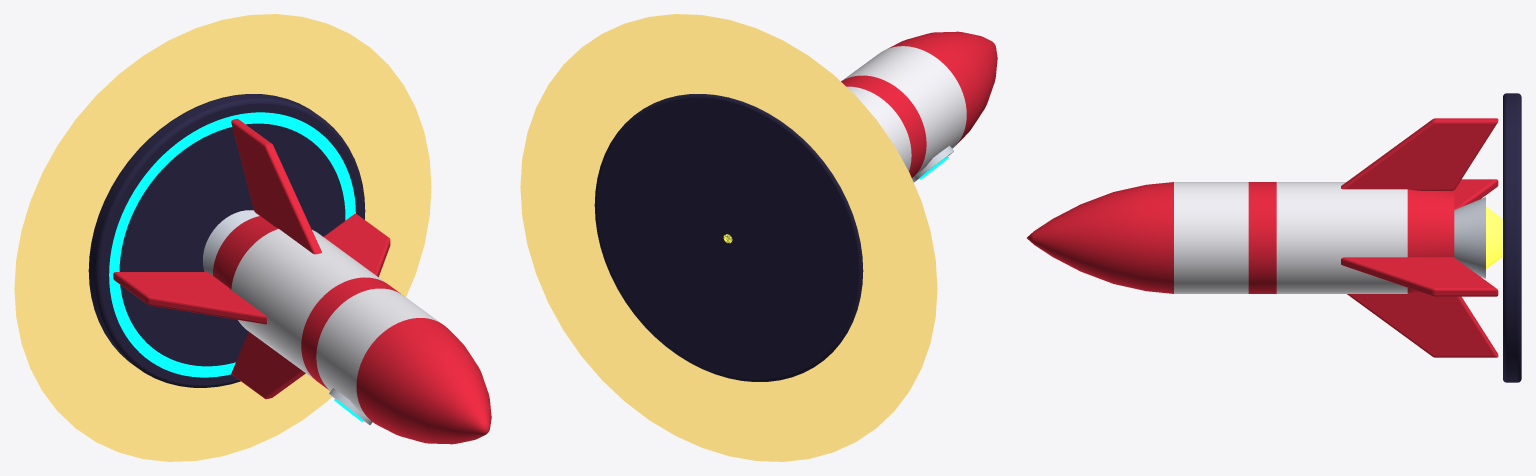
File: fusee.glb
3 renders of one model, left to right at view 1: azimuth 30°, elevation 25°; view 2: azimuth 150°, elevation 25°; view 3: azimuth 270°, elevation 25°, orthographic. The views are drawn at different scales.
Parts seen in each view (by area): view 1: lueur, socle, nez, fut1, rampe, fut3, aileron1, aileron2, aileron3, fut2, aileron0, fut0 (+1 smaller); view 2: lueur, socle, fut3, nez, fut2, fut1; view 3: fut1, nez, fut3, aileron1, aileron3, socle, aileron0, fut2, fut0, tuyere, aileron2, flamme.
Part boxes in pixels (x1,y1,x2,y2): lueur: [14, 14, 431, 461]; socle: [88, 94, 365, 387]; nez: [356, 318, 491, 444]; fut1: [231, 229, 385, 380]; rampe: [109, 112, 355, 377]; fut3: [316, 288, 441, 420]; aileron1: [231, 119, 321, 254]; aileron2: [113, 272, 266, 324]; aileron3: [231, 331, 305, 399]; fut2: [301, 277, 400, 390]; aileron0: [324, 213, 390, 276]; fut0: [213, 216, 278, 321]; lueur: [520, 14, 937, 461]; socle: [594, 94, 863, 381]; fut3: [842, 46, 966, 177]; nez: [887, 31, 997, 144]; fut2: [841, 75, 926, 177]; fut1: [846, 86, 911, 171]; fut1: [1276, 182, 1407, 293]; nez: [1027, 182, 1173, 293]; fut3: [1174, 182, 1248, 293]; aileron1: [1341, 118, 1498, 190]; aileron3: [1347, 292, 1498, 357]; socle: [1503, 93, 1521, 382]; aileron0: [1341, 257, 1498, 296]; fut2: [1248, 182, 1276, 293]; fut0: [1407, 189, 1454, 293]; tuyere: [1454, 197, 1485, 278]; aileron2: [1454, 179, 1498, 209]; flamme: [1486, 206, 1502, 269].
Size of the model in its own units: 4.8 by 4.8 by 5.3.
